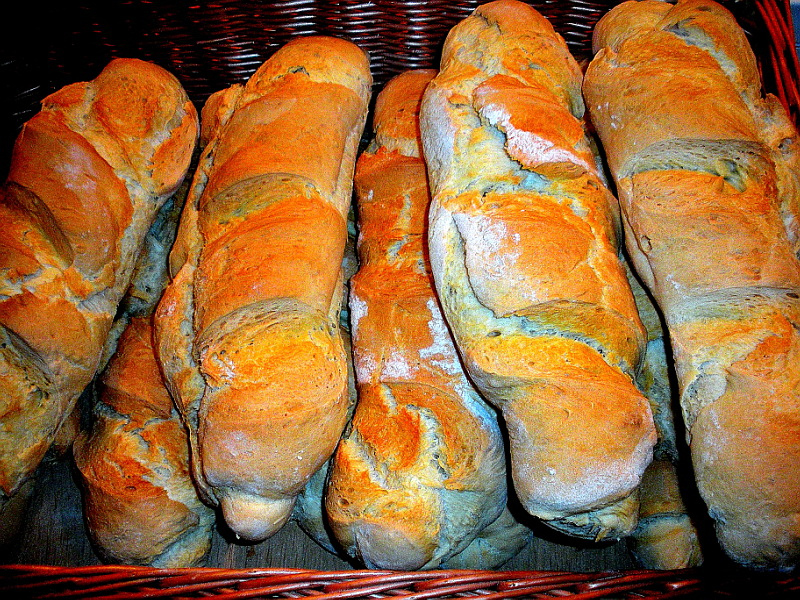slice of bread: (432, 32, 650, 504), (608, 11, 800, 503), (1, 69, 192, 465), (358, 63, 479, 523), (206, 57, 325, 473)
